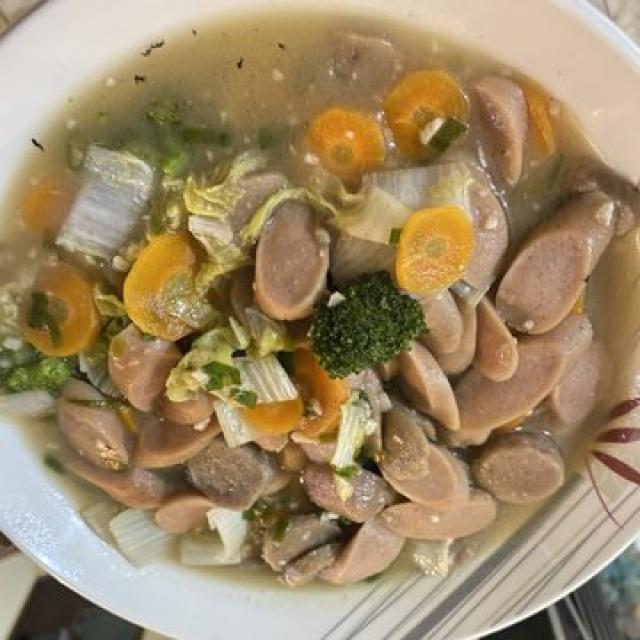capcay: (0, 21, 640, 587)
